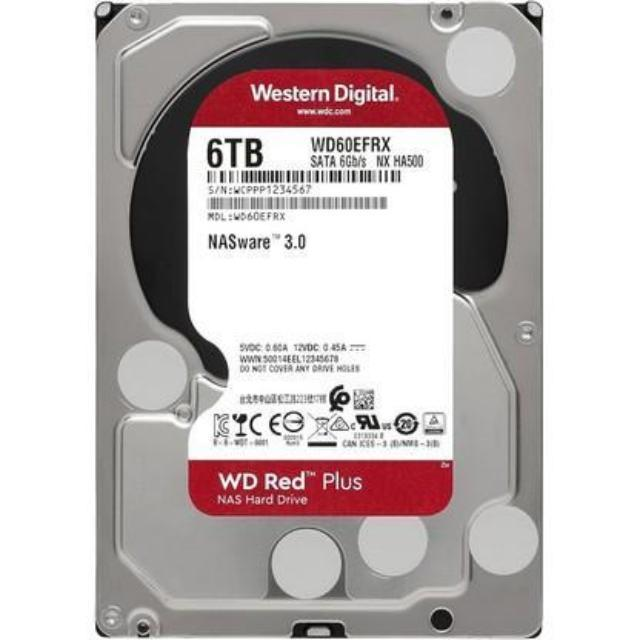DISK: (93, 3, 544, 634)
